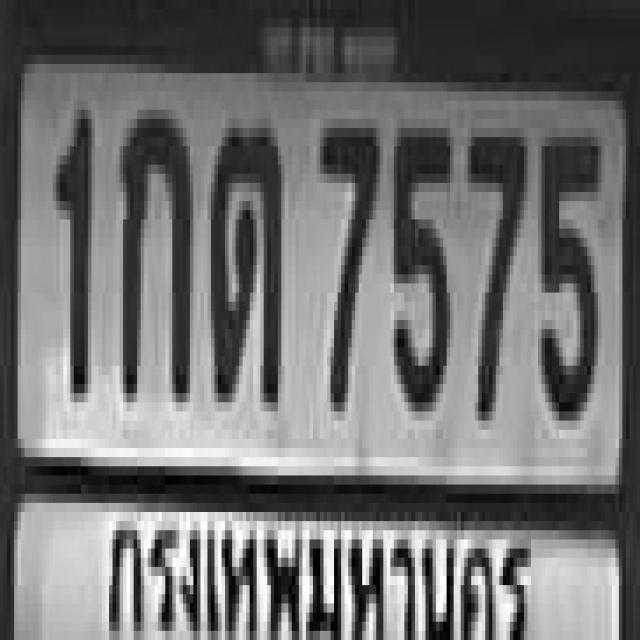1: (53, 101, 88, 393)
10GorGai: (119, 101, 190, 393)
30TorTao: (207, 119, 278, 393)
5: (538, 128, 598, 411), (390, 119, 447, 402)
7: (316, 119, 376, 402), (464, 128, 524, 411)
Bangkok: (98, 497, 542, 640)
